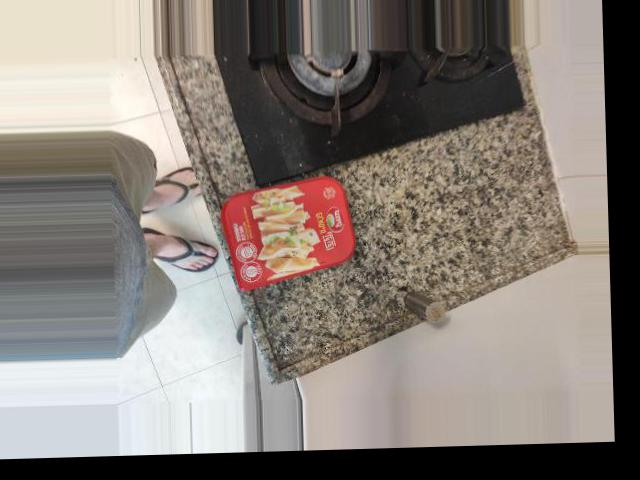cheese: (331, 150, 498, 269)
